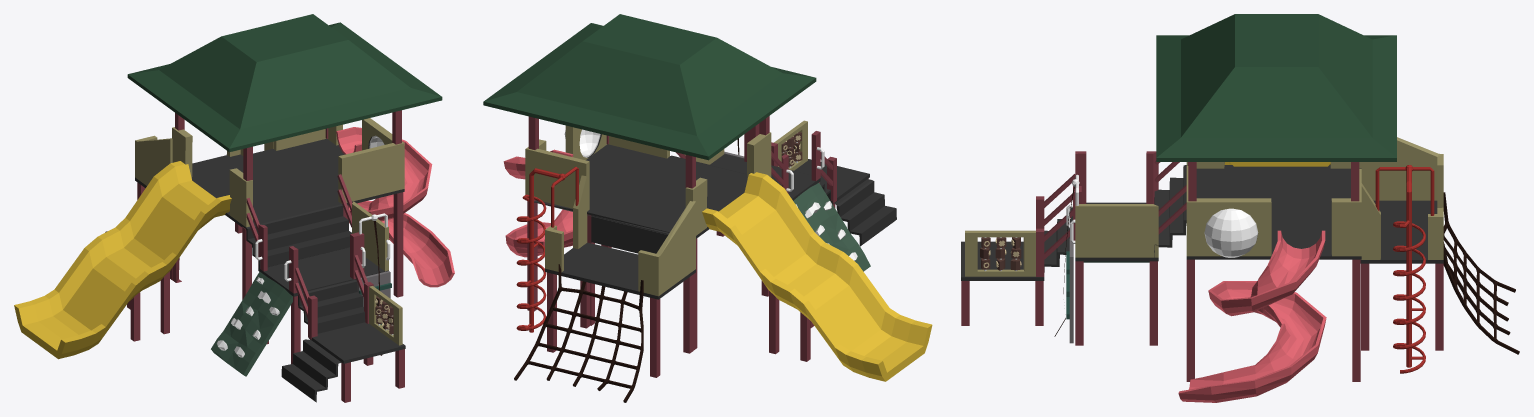
File: baked.glb
The picture shows the model from 3 angles, left to right: view 1: azimuth 30°, elevation 25°; view 2: azimuth 150°, elevation 25°; view 3: azimuth 270°, elevation 25°; orthographic projection. The views are drawn at different scales.
Visible parts, largest first — view 1: Cube.054, Cube.017, Cube.011, Cube.056, Cylinder, Cube.033, Cube.022, Cube, Cube.024, Cube.023, Cube.059, Cube.058 (+11 smaller); view 2: Cube.054, Cube.017, Cube.011, Cube.056, Cube.059, Plane, Cube.016, Cube.023, Cube.033, Cylinder.004, Cube.005, Cylinder (+14 smaller); view 3: Cube.054, Cylinder, Cube.011, Cube.059, Cube.056, Cube.058, Plane, Cube.016, Cylinder.004, Sphere, Cube.063, Cube (+12 smaller).
Part boxes in pixels (left/top/right/bottom): Cube.054: left=127, top=14, right=442, bottom=152; Cube.017: left=14, top=161, right=231, bottom=359; Cube.011: left=192, top=137, right=404, bottom=269; Cube.056: left=172, top=118, right=404, bottom=227; Cylinder: left=336, top=127, right=454, bottom=287; Cube.033: left=211, top=271, right=292, bottom=376; Cube.022: left=258, top=247, right=388, bottom=296; Cube: left=309, top=322, right=405, bottom=363; Cube.024: left=298, top=279, right=365, bottom=333; Cube.023: left=281, top=339, right=341, bottom=402; Cube.059: left=135, top=135, right=273, bottom=185; Cube.058: left=352, top=201, right=388, bottom=271; Cube.054: left=483, top=14, right=816, bottom=160; Cube.017: left=702, top=172, right=932, bottom=381; Cube.011: left=534, top=134, right=747, bottom=238; Cube.056: left=525, top=125, right=771, bottom=235; Cube.059: left=545, top=175, right=695, bottom=296; Plane: left=514, top=264, right=643, bottom=402; Cube.016: left=545, top=242, right=695, bottom=299; Cube.023: left=834, top=179, right=896, bottom=246; Cube.033: left=793, top=183, right=870, bottom=271; Cylinder.004: left=516, top=168, right=565, bottom=332; Cube.005: left=591, top=215, right=669, bottom=253; Cylinder: left=503, top=149, right=573, bottom=257; Cube.054: left=1156, top=14, right=1396, bottom=161; Cylinder: left=1178, top=230, right=1326, bottom=402; Cube.011: left=1154, top=165, right=1361, bottom=259; Cube.059: left=1361, top=137, right=1443, bottom=259; Cube.056: left=1186, top=162, right=1361, bottom=256; Cube.058: left=1075, top=204, right=1158, bottom=257; Plane: left=1443, top=192, right=1519, bottom=354; Cube.016: left=1360, top=200, right=1443, bottom=263; Cylinder.004: left=1393, top=165, right=1425, bottom=373; Sphere: left=1204, top=208, right=1258, bottom=257; Cube.063: left=965, top=230, right=1035, bottom=276; Cube: left=961, top=241, right=1044, bottom=280.
Size of the model in its own units: 12.49 by 7.93 by 13.41.
